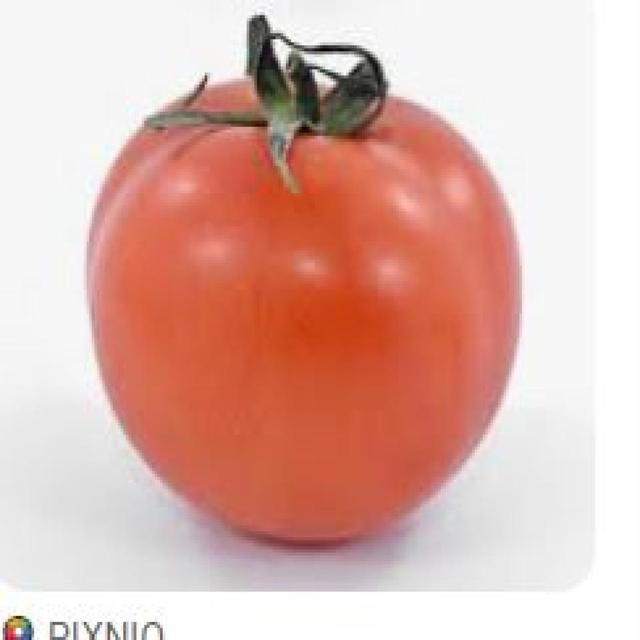Healthy Fruit: (66, 36, 349, 370)
